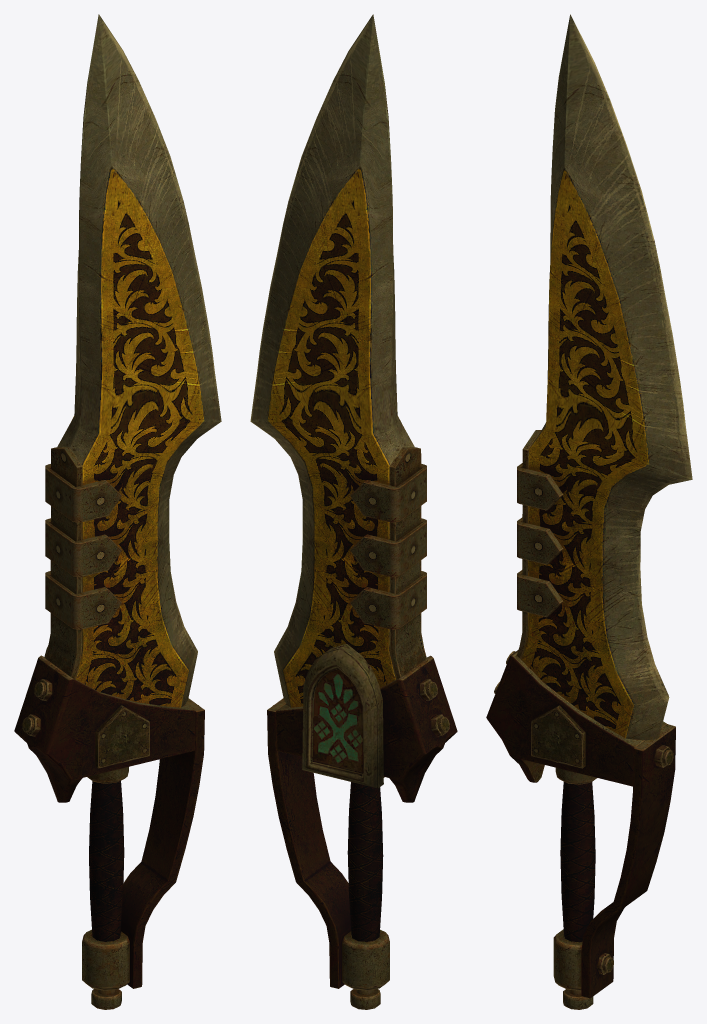
The model's file is bs_sou007.obj.
The picture shows the model from 3 angles, left to right: view 1: azimuth 30°, elevation 25°; view 2: azimuth 150°, elevation 25°; view 3: azimuth 330°, elevation 25°; orthographic projection.
Visible parts, largest first — view 1: bs_sou007_000_LOD_1; view 2: bs_sou007_000_LOD_1; view 3: bs_sou007_000_LOD_1.
Part boxes in pixels (left/top/right/bottom): bs_sou007_000_LOD_1: left=14, top=14, right=221, bottom=1009; bs_sou007_000_LOD_1: left=250, top=14, right=457, bottom=1009; bs_sou007_000_LOD_1: left=486, top=14, right=692, bottom=1009.
Size of the model in its own units: 22.3 by 107 by 9.83.
